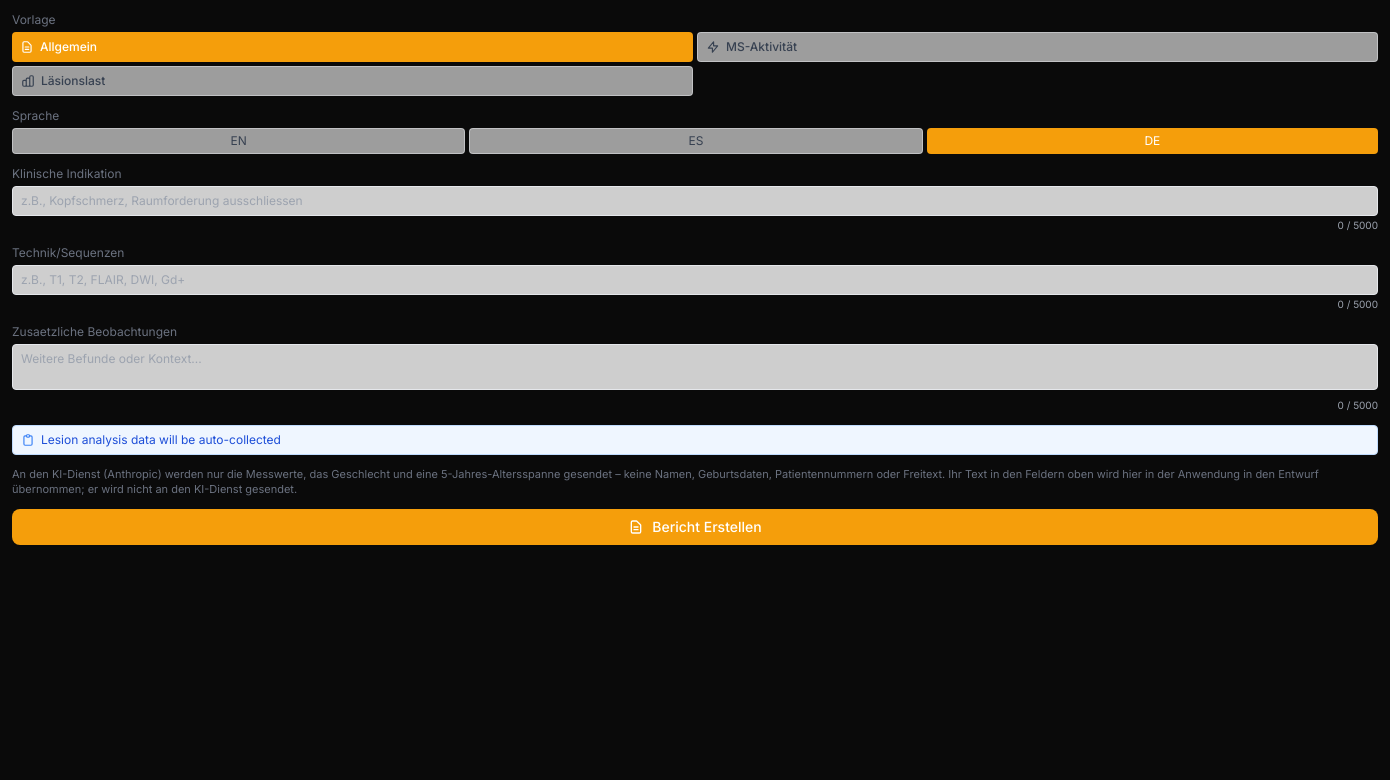
it: Release 2026-10-25: the report panel names an unreadable image geometry › rc070 release r6 a geometry 422 shows its own message, not "no measurements" (de)
Click the button with test id "report-generate-button" at coordinates (695, 527), box [12,509,1378,545]
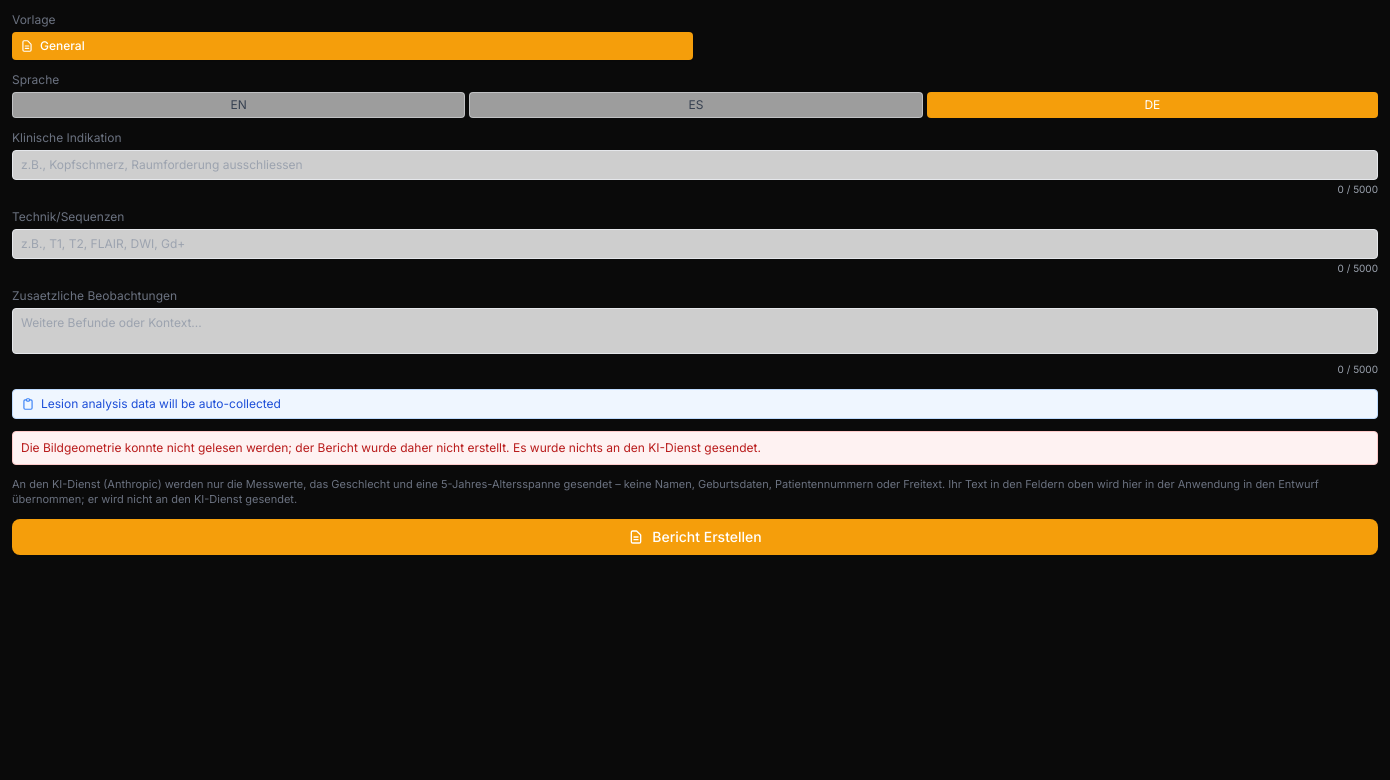
Result: the text "Die Bildgeometrie konnte nicht gelesen werden; der Bericht wurde daher nicht erstellt. Es wurde nichts an den KI-Dienst " is shown at [21,440,761,455]
